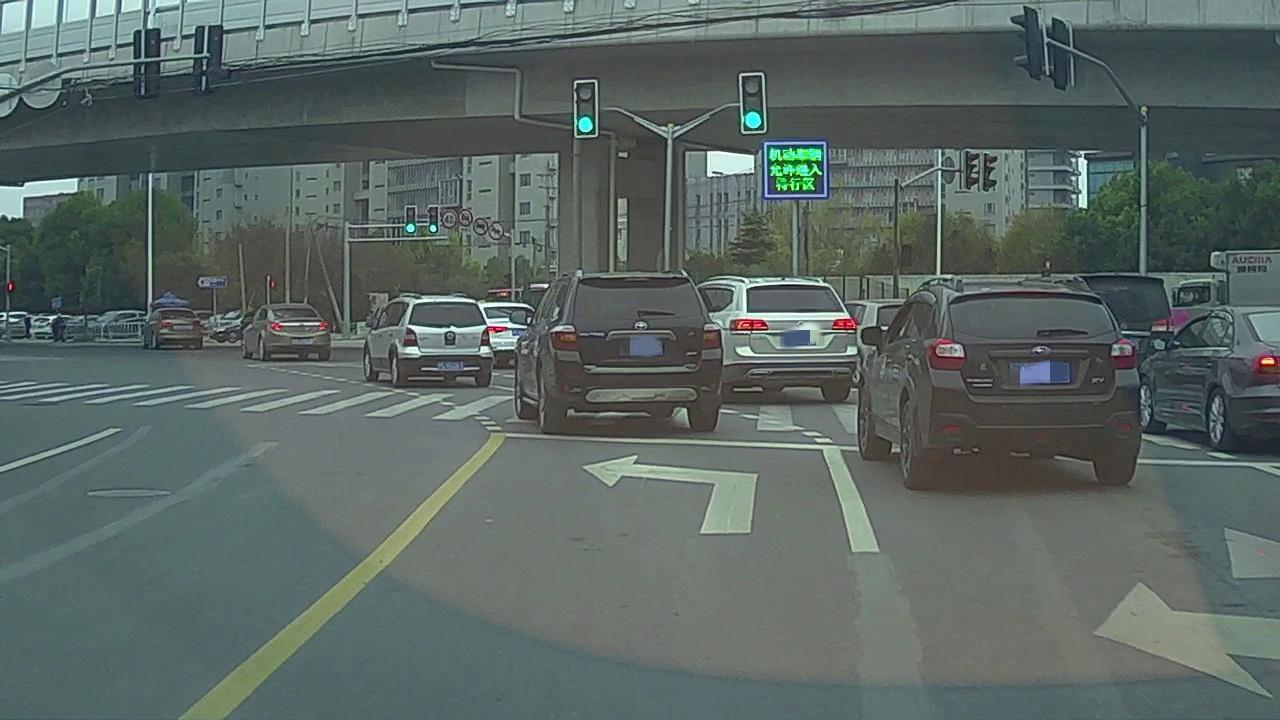traffic_light: (740, 75, 767, 133), (575, 83, 597, 138)
